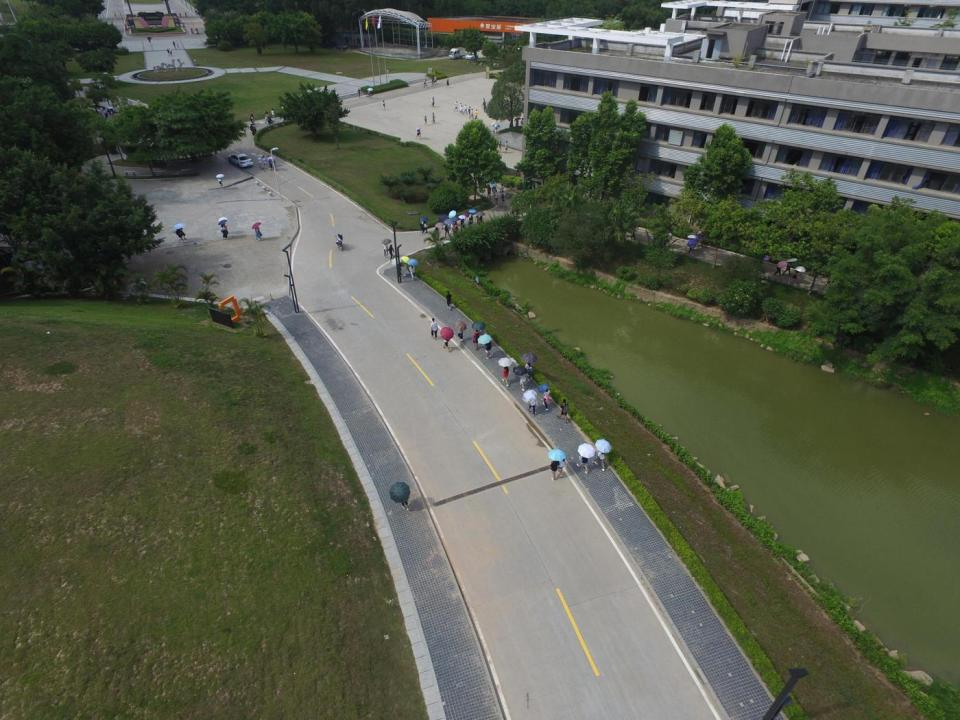car: (227, 153, 254, 168), (465, 52, 479, 60), (334, 44, 348, 50)
truck: (448, 46, 466, 60)
